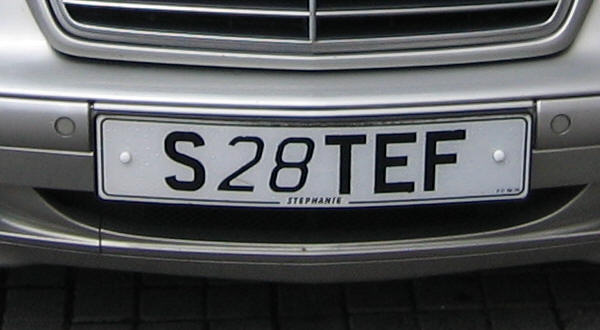license_plate: (95, 116, 533, 206)
